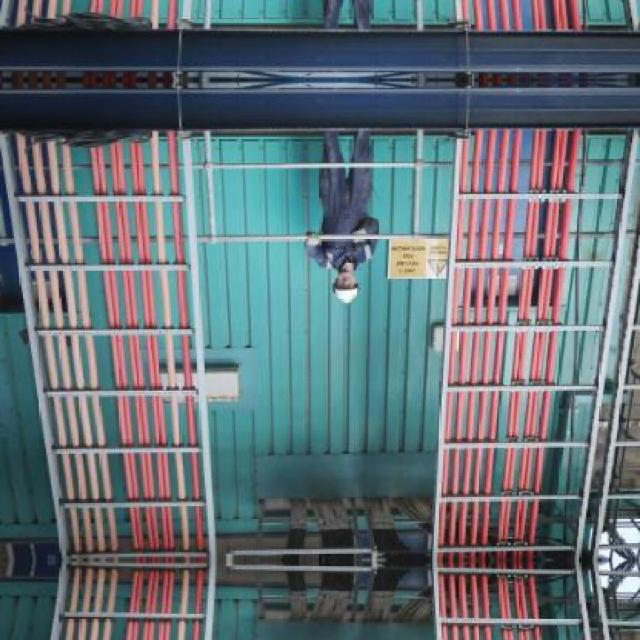con casco: (304, 246, 382, 332)
